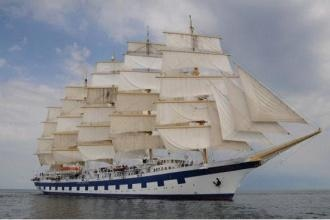fanchuan: (32, 14, 321, 196)
